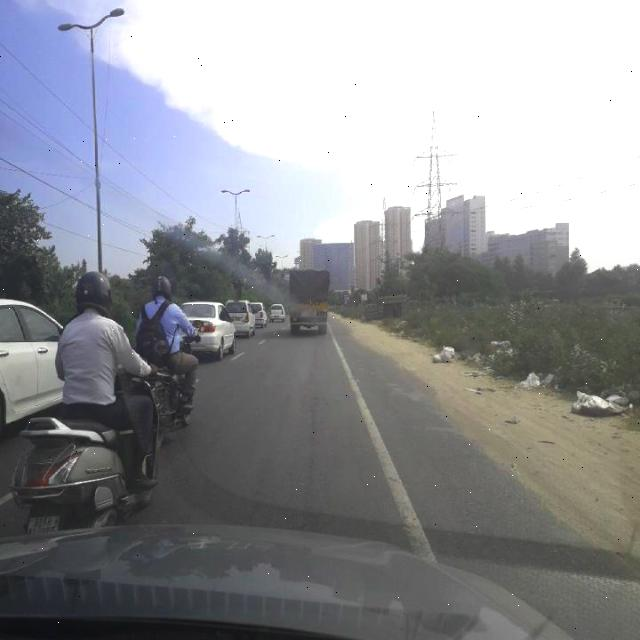D00: (297, 350, 331, 532)
